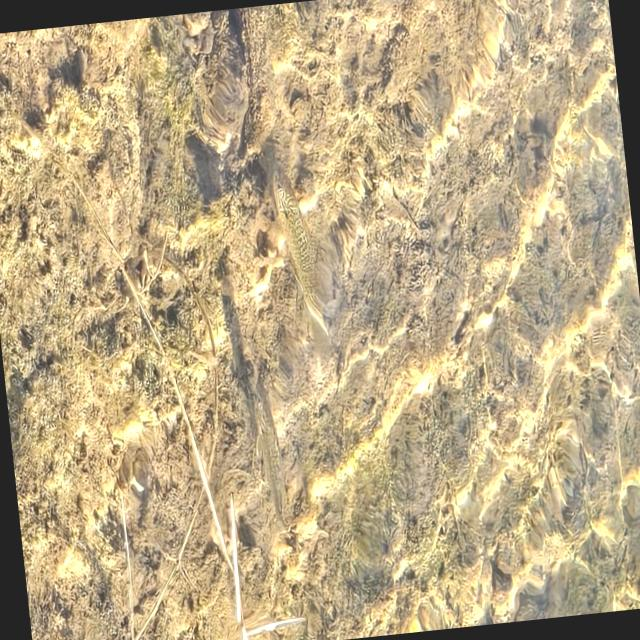Gunes Levregi: (267, 170, 332, 342), (248, 378, 298, 532)
